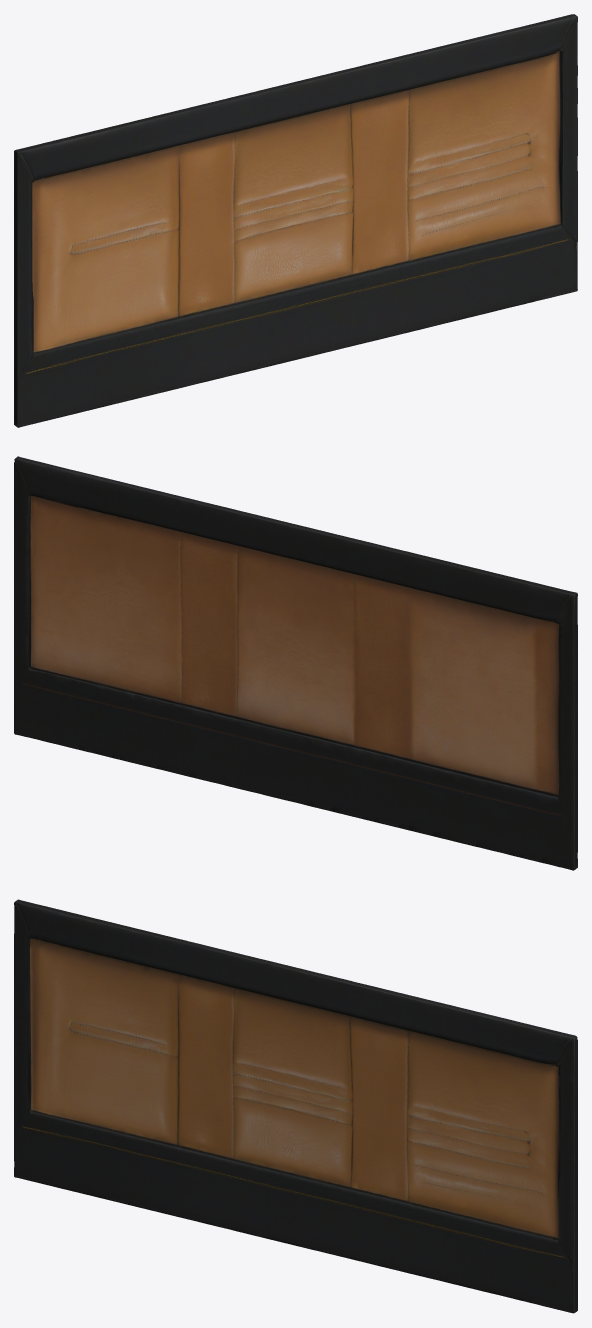
Rendered from SpaceWall2.glb.
3 views of the same model, one above another, from view 1: azimuth 30°, elevation 25°; view 2: azimuth 150°, elevation 25°; view 3: azimuth 330°, elevation 25° (orthographic).
Parts seen in each view (by area): view 1: Mesh_0; view 2: Mesh_0; view 3: Mesh_0.
Part boxes in pixels (x1,y1,x2,y2): Mesh_0: [14, 14, 577, 427]; Mesh_0: [14, 456, 577, 870]; Mesh_0: [14, 899, 577, 1313].
Size of the model in its own units: 4.14 by 1.95 by 0.0482.
Materials: 1 (1 with a texture image).
